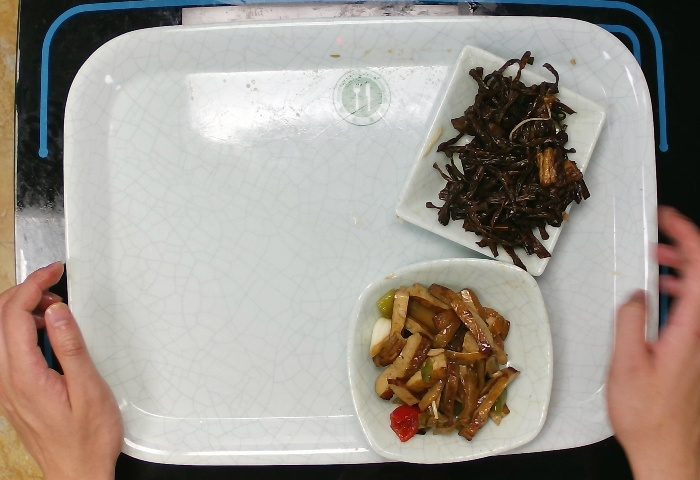WCQzf-Da_Si_Fang_Die: (349, 255, 551, 465)
WCQzf-Ru_Ci_Si_Fang_Die: (396, 40, 608, 275)
